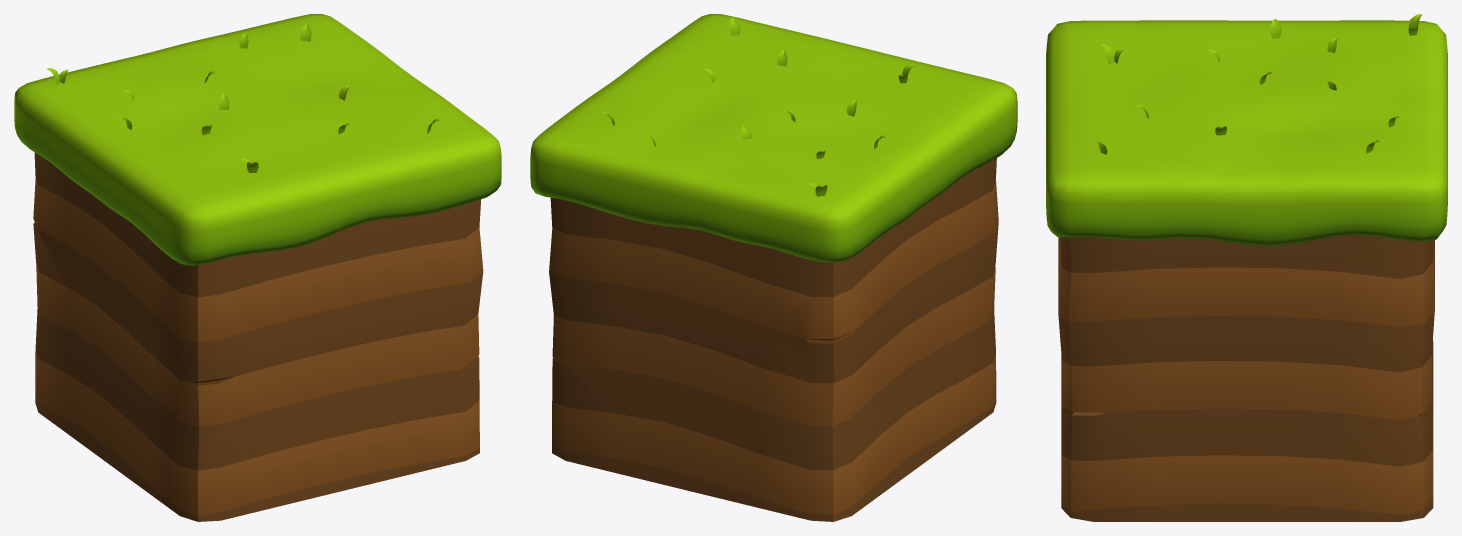
Rendered from Terrein.fbx.
The picture shows the model from 3 angles, left to right: view 1: azimuth 30°, elevation 25°; view 2: azimuth 150°, elevation 25°; view 3: azimuth 270°, elevation 25°; orthographic projection. The views are drawn at different scales.
Parts seen in each view (by area): view 1: Cube.061; view 2: Cube.061; view 3: Cube.061.
Boxes of the visible parts, x1,y1,x2,y2 form: Cube.061: (14,14,501,521); Cube.061: (530,14,1017,521); Cube.061: (1046,14,1447,521).
Size of the model in its own units: 2.2 by 2.2 by 2.18.
